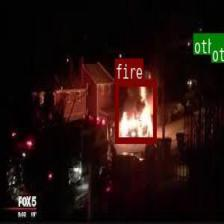fire: (115, 80, 156, 142)
